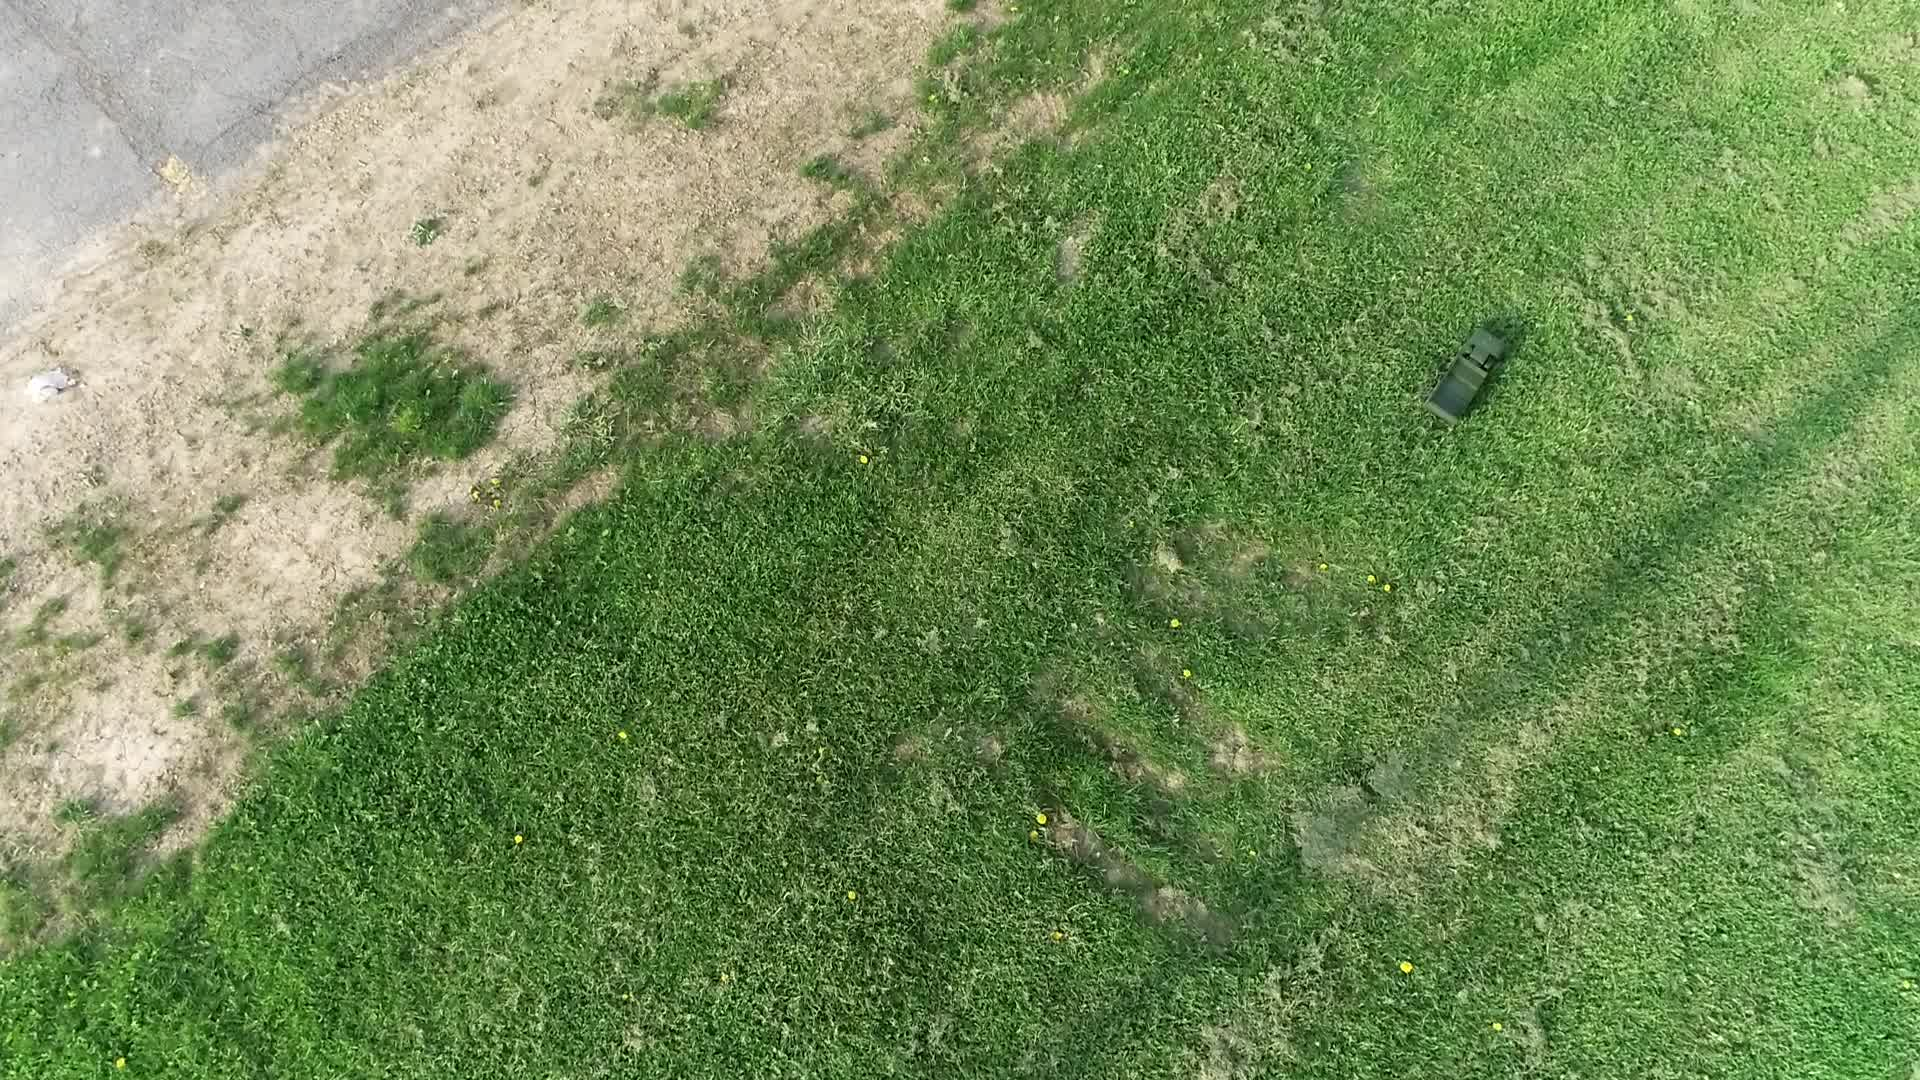transporter9: (1416, 319, 1515, 431)
